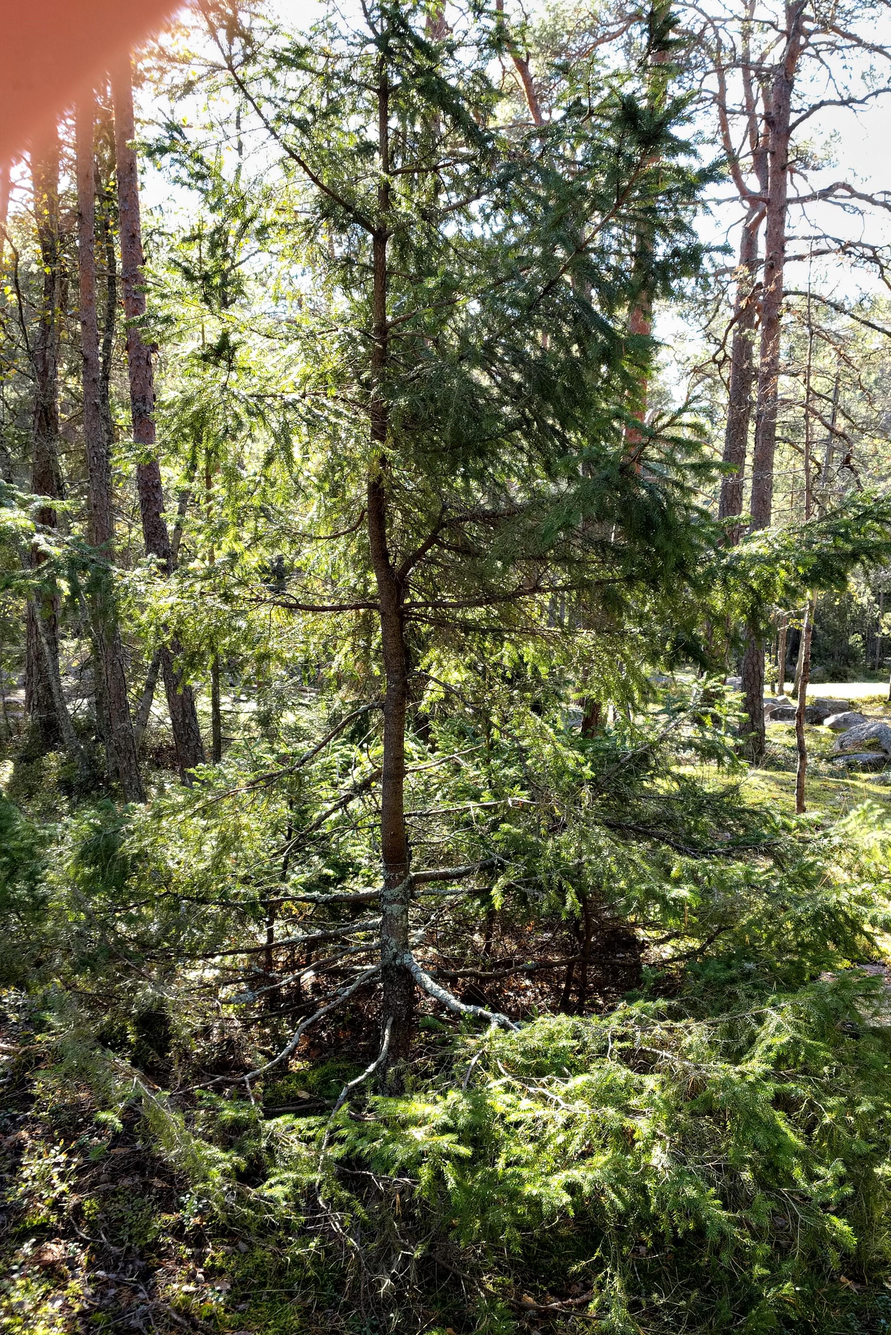Spruce: (171, 0, 888, 1130), (187, 3, 693, 1113)
